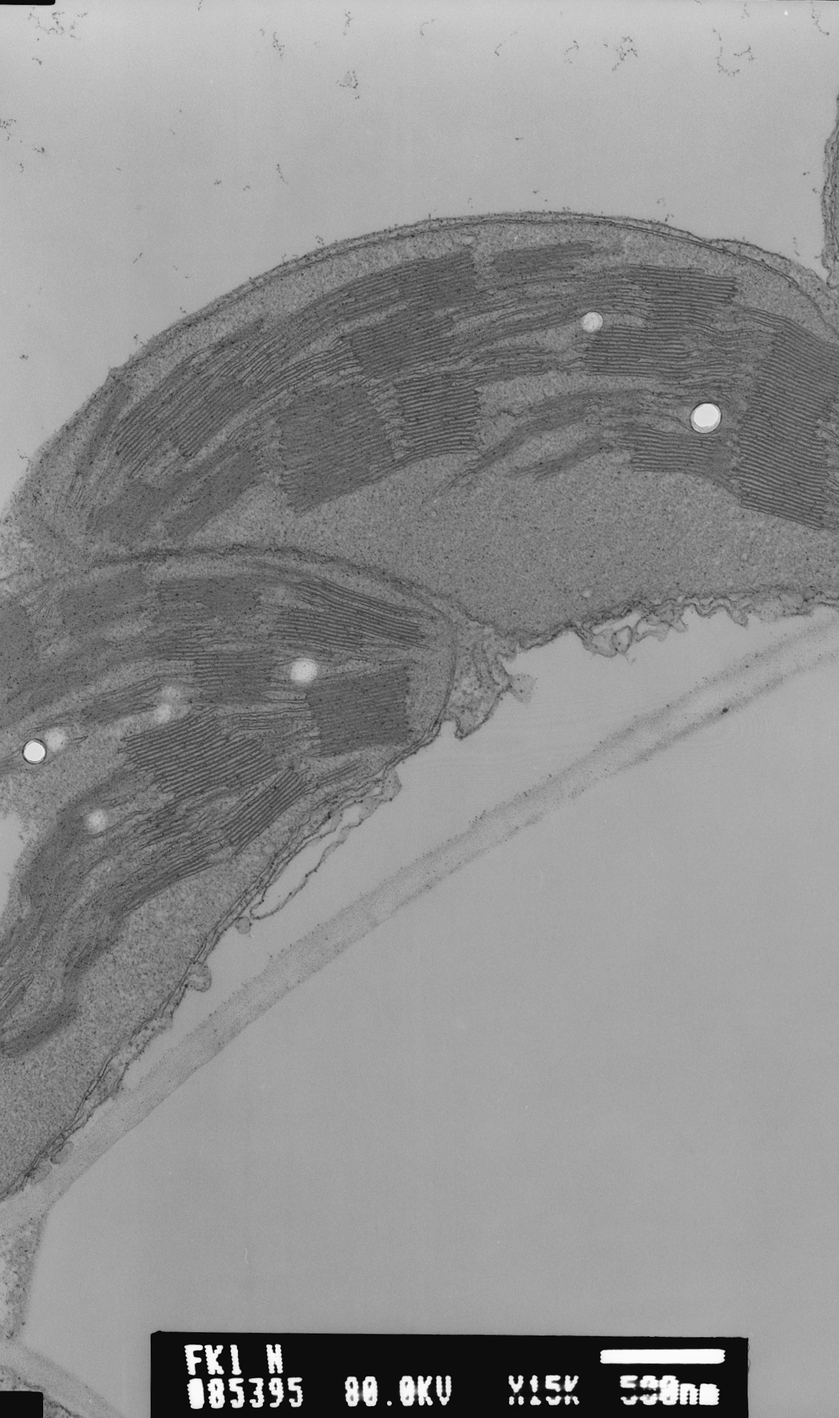granum: (734, 316, 839, 533), (328, 249, 496, 379), (273, 380, 397, 520), (15, 766, 129, 918), (110, 359, 270, 466), (95, 437, 242, 552), (117, 711, 281, 807), (622, 262, 739, 363), (387, 366, 487, 472), (467, 390, 592, 474), (303, 663, 413, 758), (157, 448, 266, 542), (268, 594, 425, 658), (103, 850, 214, 934), (614, 419, 734, 488), (216, 765, 310, 852), (17, 641, 106, 716), (51, 563, 152, 625), (187, 643, 281, 707), (74, 379, 133, 479), (319, 577, 434, 623), (155, 573, 260, 622), (2, 1000, 86, 1059), (79, 674, 165, 729), (523, 435, 616, 483), (492, 239, 596, 281), (0, 591, 39, 690), (580, 320, 644, 378), (641, 361, 740, 394), (477, 342, 551, 385), (498, 304, 581, 339), (69, 604, 144, 639), (143, 626, 205, 663), (213, 314, 269, 353), (0, 914, 33, 972), (67, 937, 113, 977), (316, 757, 367, 790), (142, 815, 189, 847), (0, 749, 23, 780), (293, 577, 320, 599), (163, 799, 178, 816)
